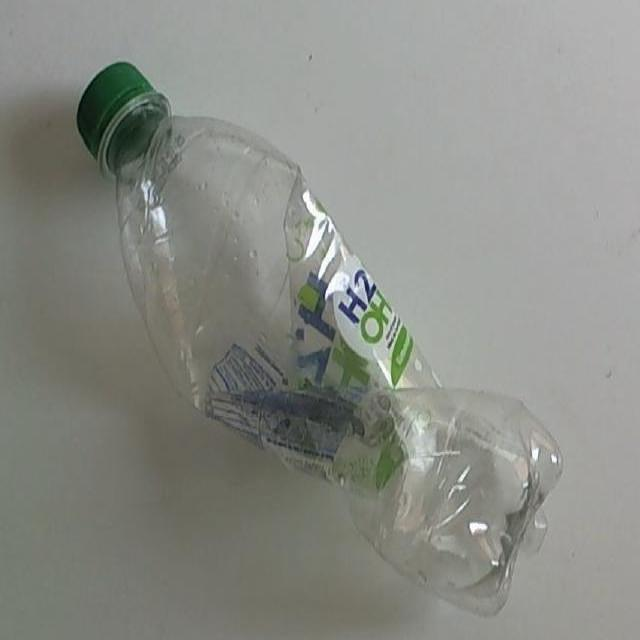defect: (73, 56, 566, 622)
